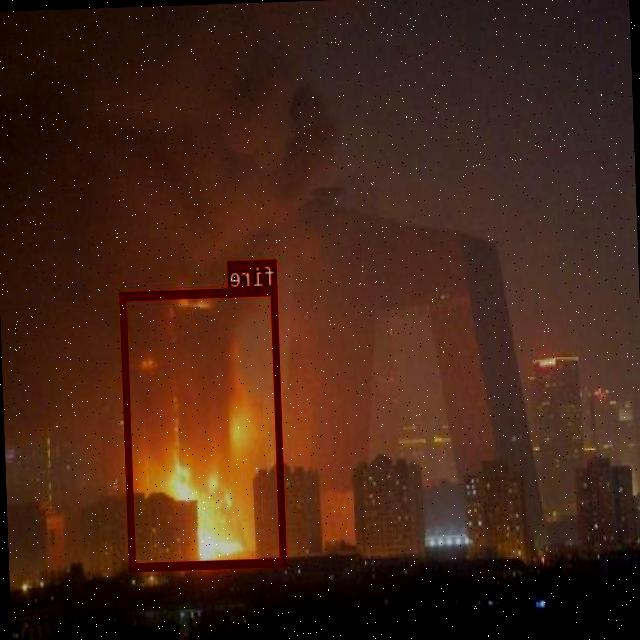fire: (121, 286, 287, 568)
